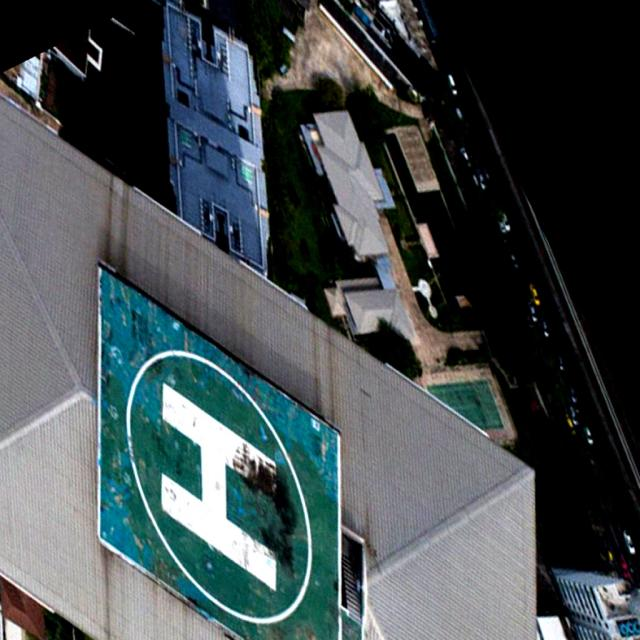helipad: (120, 345, 318, 629)
